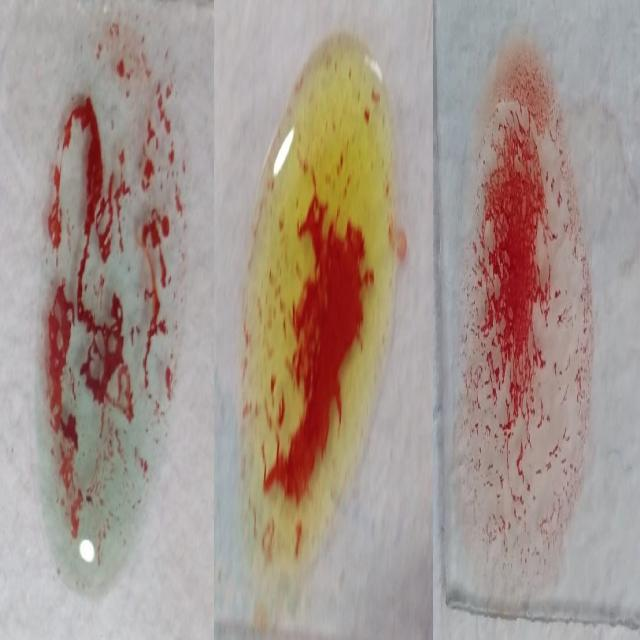A: (35, 26, 178, 589)
B: (241, 28, 393, 567)
D: (448, 52, 595, 578)
